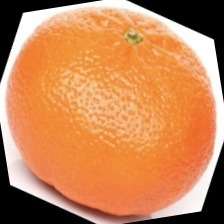orange: (28, 38, 177, 223)
